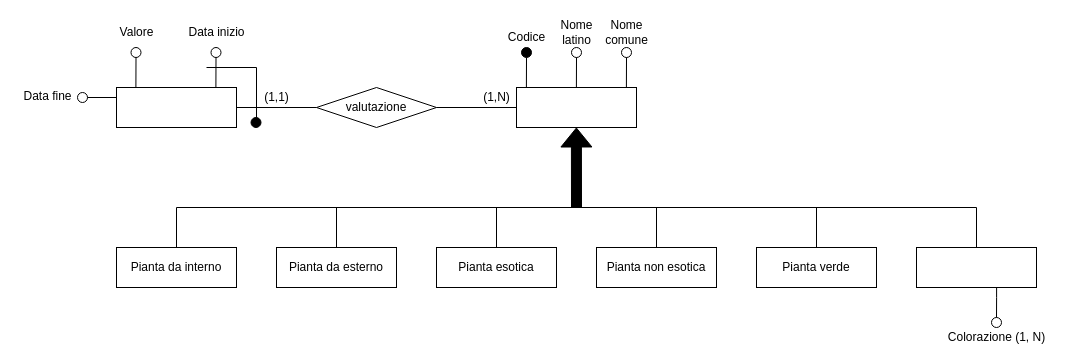
Some shapes in this 1068 by 364 pixel diagram are drawn without their labels. The shapes that lost their labels are listed below. From the top down, each one's centre as x and y in pixels, then its label:
At pixel 176 107: "Prezzo".
At pixel 576 107: "Pianta".
At pixel 976 267: "Pianta fiorita".
